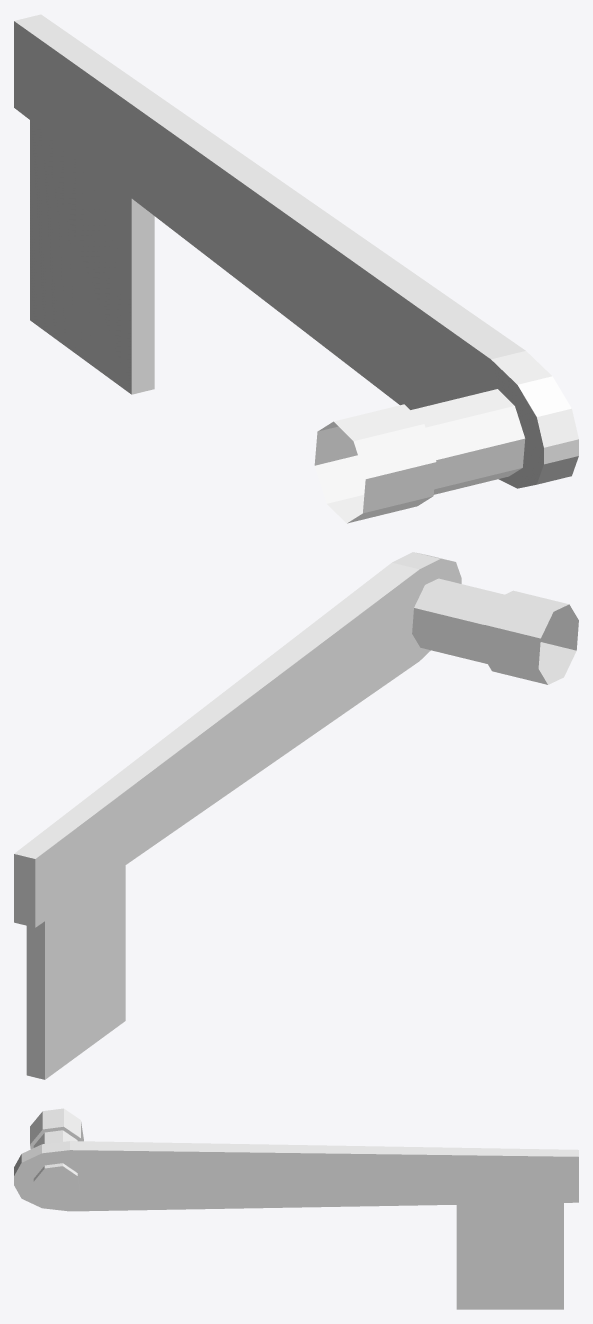
The model's file is Prop_Letterbox_SignalFlag_01.glb.
3 renders of one model, top to bottom at view 1: azimuth 30°, elevation 25°; view 2: azimuth 150°, elevation 25°; view 3: azimuth 270°, elevation 25°, orthographic. The views are drawn at different scales.
Visible parts, largest first — view 1: Prop_Letterbox_SignalFlag_01; view 2: Prop_Letterbox_SignalFlag_01; view 3: Prop_Letterbox_SignalFlag_01.
Part boxes in pixels (x1=…): Prop_Letterbox_SignalFlag_01: x1=14, y1=14, x2=578, y2=523; Prop_Letterbox_SignalFlag_01: x1=14, y1=552, x2=578, y2=1079; Prop_Letterbox_SignalFlag_01: x1=14, y1=1108, x2=578, y2=1309.
Size of the model in its own units: 0.0341 by 0.0471 by 0.15.
1 material, 1 textured.
